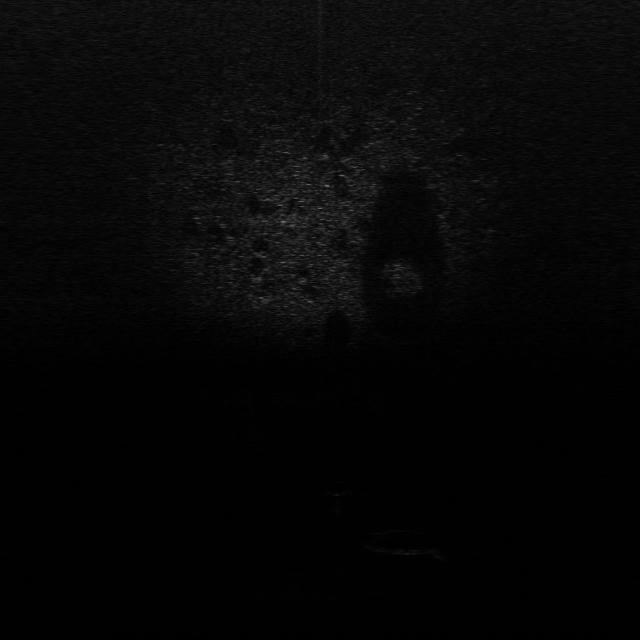ball: (322, 477, 356, 497)
tyre: (363, 524, 442, 555)
